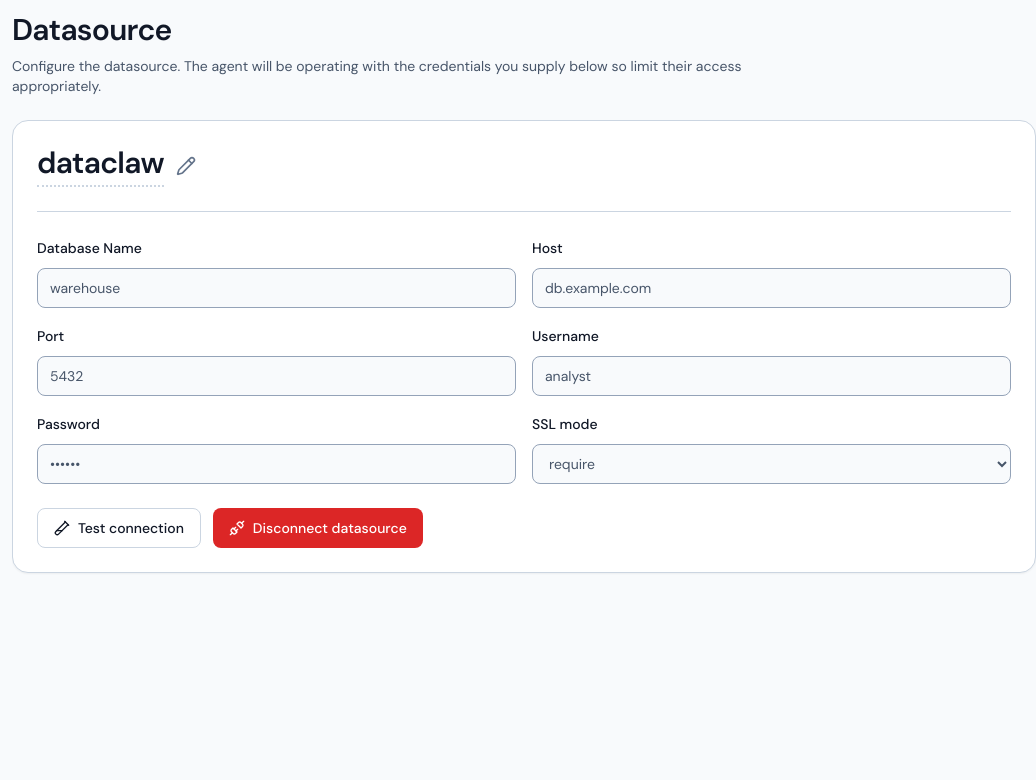
DatasourcePage › locks connection fields when a datasource already exists and auto-saves display name on blur
The image size is (1036, 780).
Expected: the dropdown labelled "SSL mode" is disabled, [532,444,1011,484]
Click the button with aria-label "edit display name". click: (116, 166)
box: [37,145,196,187]
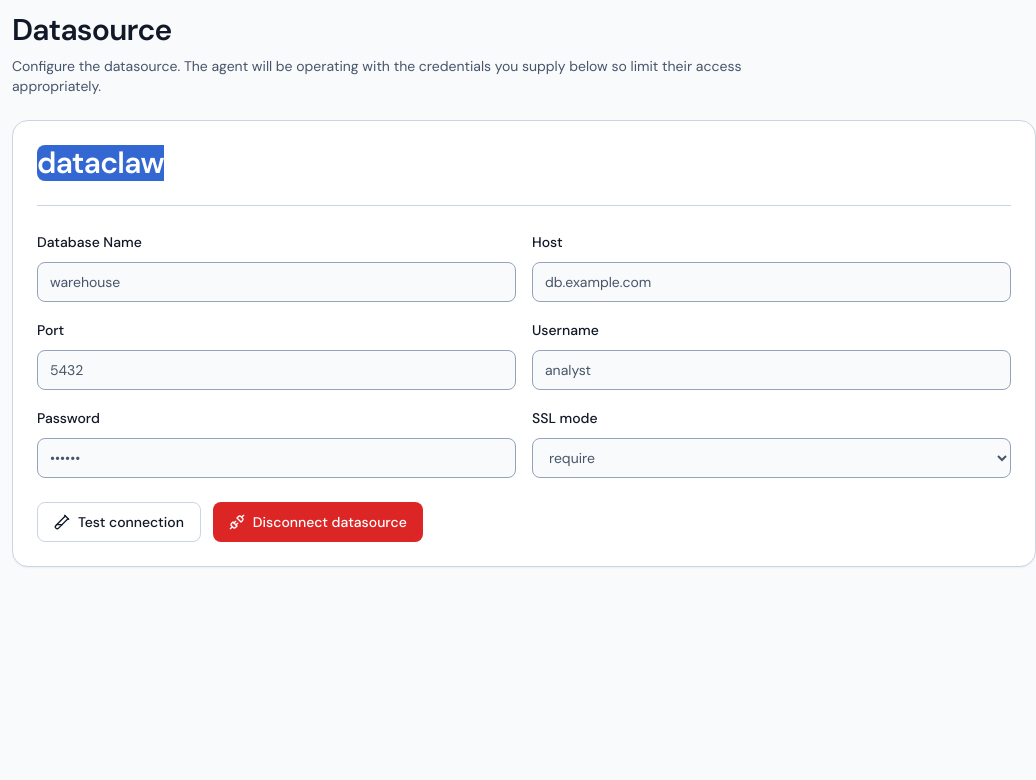
Result: the field named "display name" holds "dataclaw"
Replace the text in the field named "display name" with "renamed". click: (325, 163)
box: [37,145,613,181]
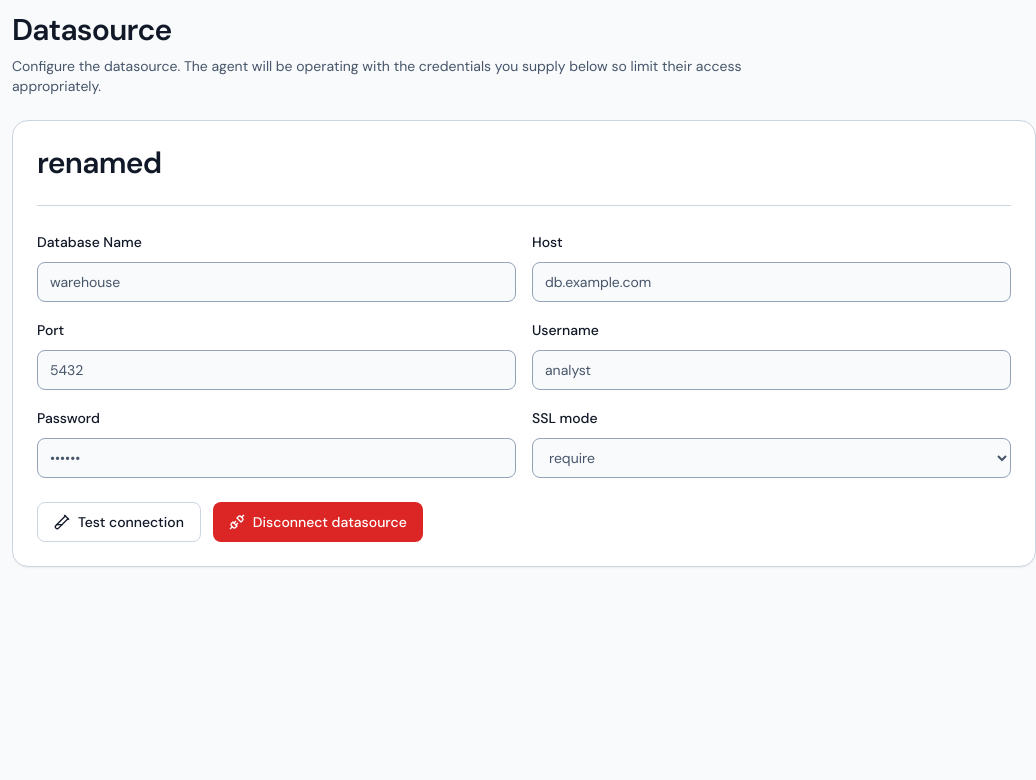
Press Tab
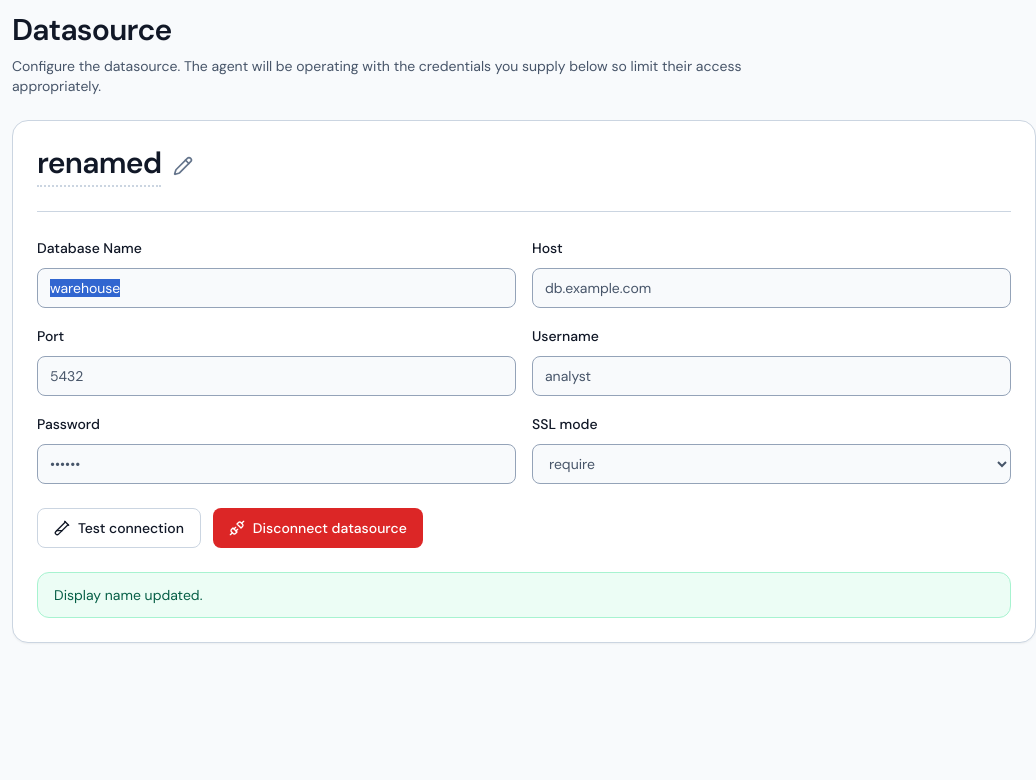
Result: the text "Display name updated." is shown at [37,572,1011,618]
